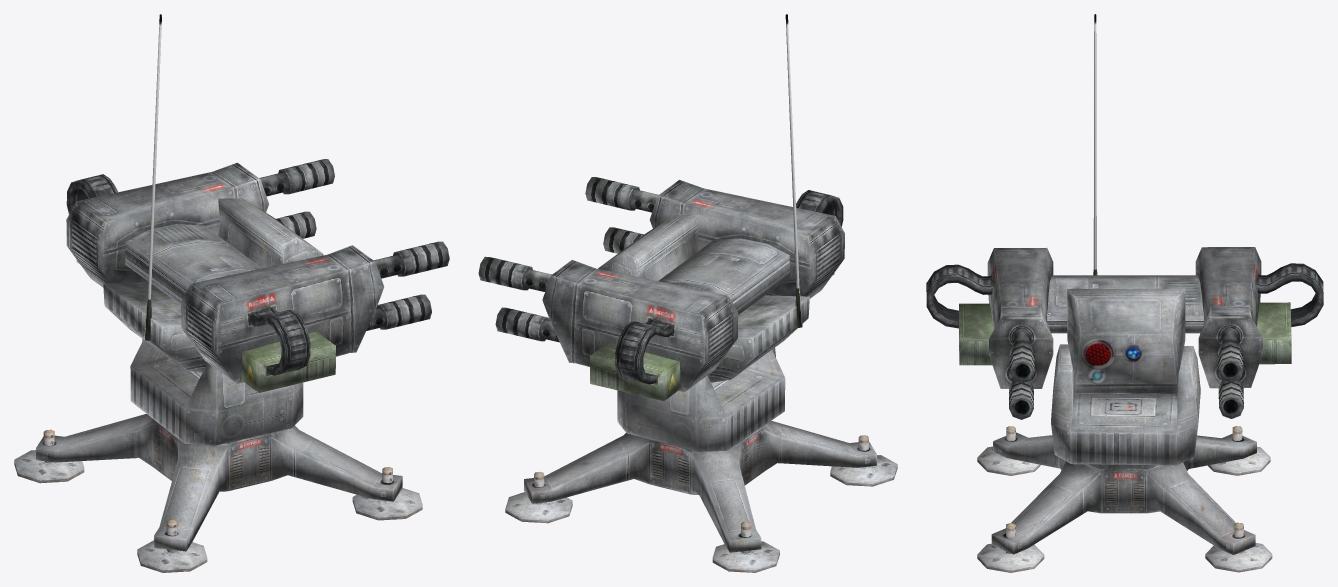
Rendered from torret.obj.
The picture shows the model from 3 angles, left to right: view 1: azimuth 30°, elevation 25°; view 2: azimuth 150°, elevation 25°; view 3: azimuth 270°, elevation 25°; orthographic projection. The views are drawn at different scales.
Visible parts, largest first — view 1: Guns, Stand, Base; view 2: Guns, Stand, Base; view 3: Guns, Stand, Base.
Part boxes in pixels (bbox=[...]): Guns: bbox=[66, 14, 449, 392]; Stand: bbox=[14, 414, 422, 572]; Base: bbox=[130, 339, 303, 445]; Guns: bbox=[478, 14, 844, 400]; Stand: bbox=[505, 420, 897, 572]; Base: bbox=[617, 348, 785, 451]; Guns: bbox=[926, 14, 1323, 419]; Stand: bbox=[977, 426, 1272, 572]; Base: bbox=[1051, 344, 1200, 465].
Size of the model in its own units: 3.33 by 5.18 by 4.02.
Materials: 1 (1 with a texture image).
